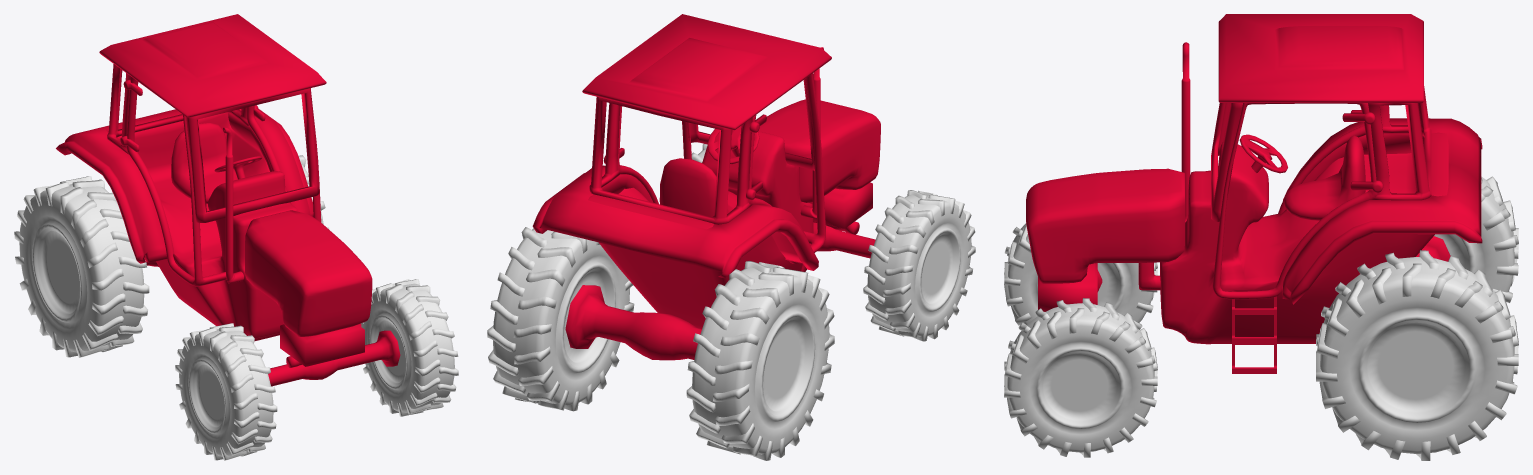
The model's file is TruckMerged2.fbx.
The picture shows the model from 3 angles, left to right: view 1: azimuth 30°, elevation 25°; view 2: azimuth 150°, elevation 25°; view 3: azimuth 270°, elevation 25°; orthographic projection. The views are drawn at different scales.
Parts seen in each view (by area): view 1: Tracteur, RouesAvant, RouesArriere; view 2: Tracteur, RouesArriere, RouesAvant; view 3: Tracteur, RouesArriere, RouesAvant.
Part boxes in pixels (bbox=[...]): Tracteur: bbox=[56, 14, 400, 386]; RouesAvant: bbox=[175, 279, 458, 460]; RouesArriere: bbox=[14, 142, 329, 357]; Tracteur: bbox=[532, 14, 880, 360]; RouesArriere: bbox=[487, 227, 834, 460]; RouesAvant: bbox=[691, 144, 975, 341]; Tracteur: bbox=[1026, 14, 1482, 373]; RouesArriere: bbox=[1316, 176, 1518, 460]; RouesAvant: bbox=[1004, 223, 1157, 457].
Size of the model in its own units: 5.34 by 6.71 by 8.86.
